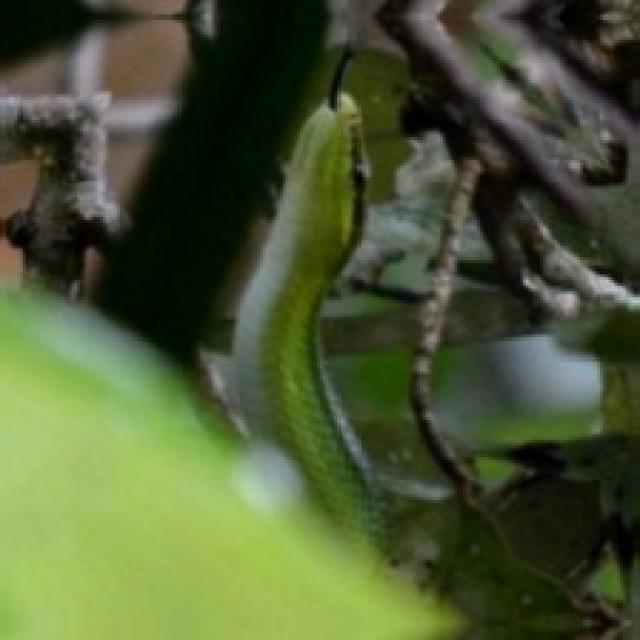red-tailed green ratsnake: (226, 94, 377, 534)
